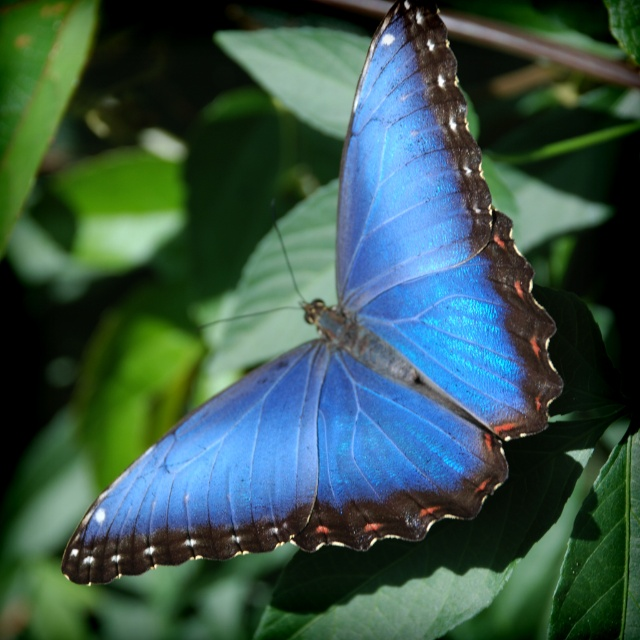Butterfly: (69, 28, 553, 631)
